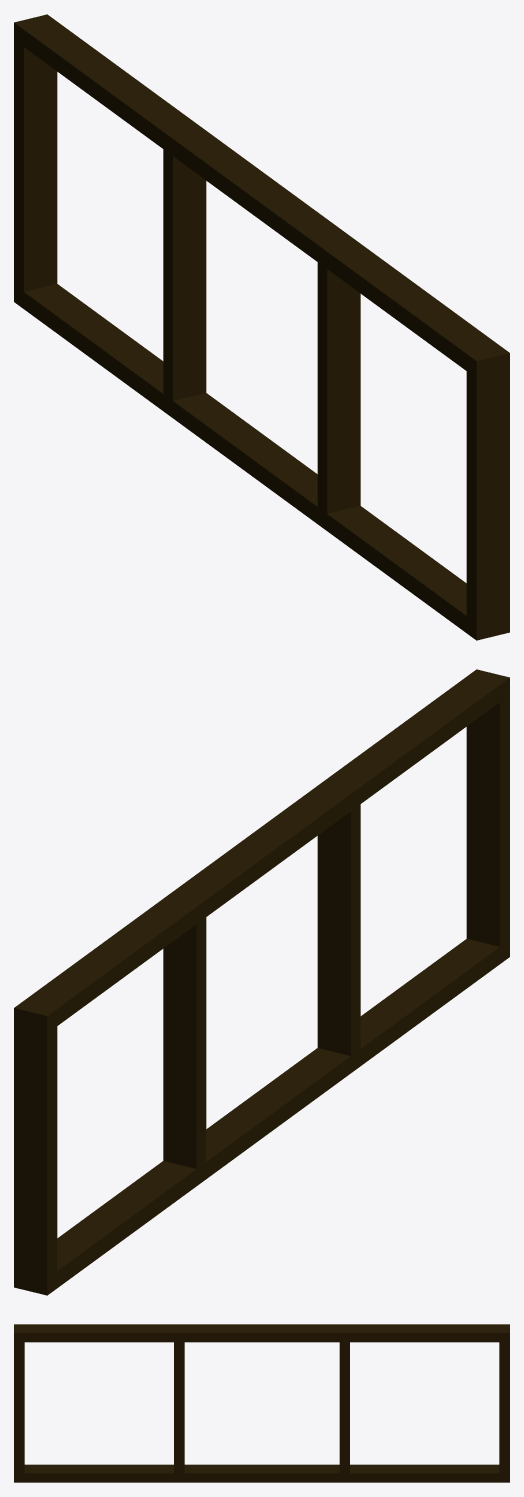
Rendered from 3 SW Frame.fbx.
3 renders of one model, top to bottom at view 1: azimuth 30°, elevation 25°; view 2: azimuth 150°, elevation 25°; view 3: azimuth 270°, elevation 25°, orthographic. The views are drawn at different scales.
Visible parts, largest first — view 1: 3SCC frame; view 2: 3SCC frame; view 3: 3SCC frame.
Boxes of the visible parts, box(x1,y1,x2,y2) form: 3SCC frame: box(14, 14, 509, 640); 3SCC frame: box(14, 669, 509, 1295); 3SCC frame: box(14, 1324, 509, 1482).
Size of the model in its own units: 100 by 800 by 2400.
